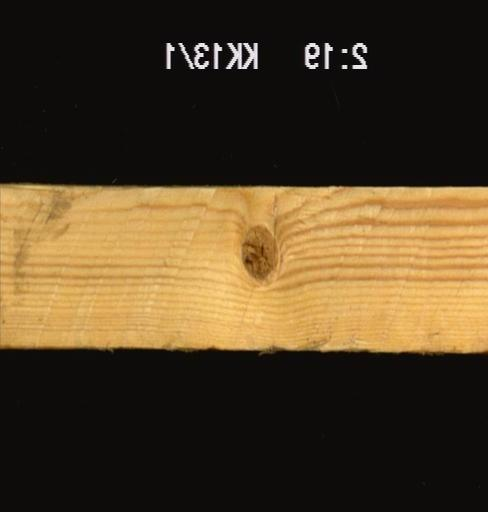sound_knot: (235, 223, 282, 281)
